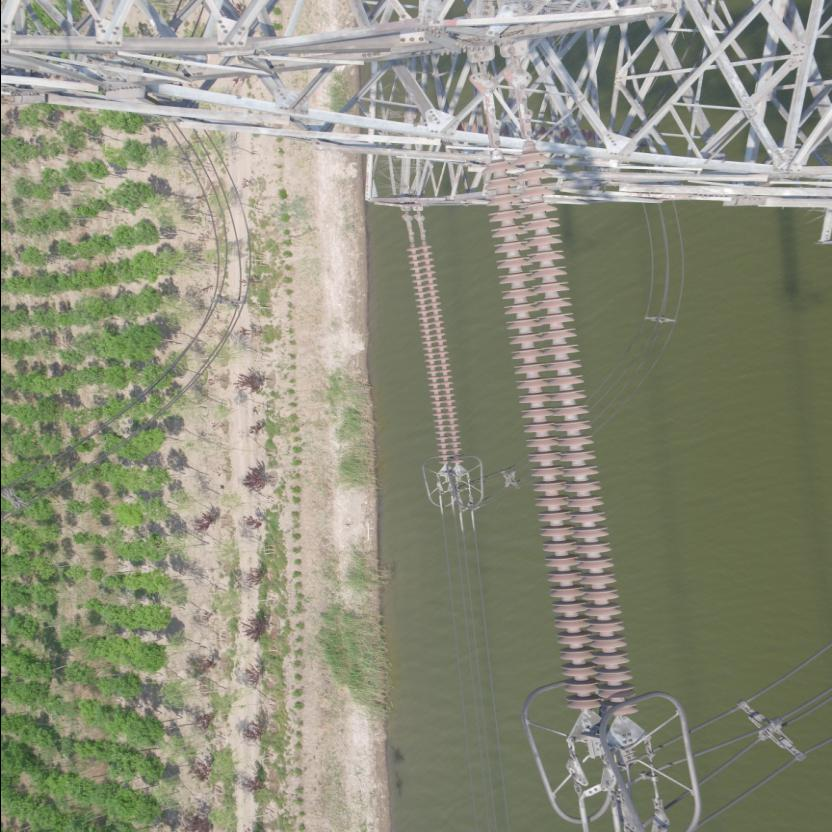insulator: (476, 121, 638, 730), (401, 232, 463, 470)
